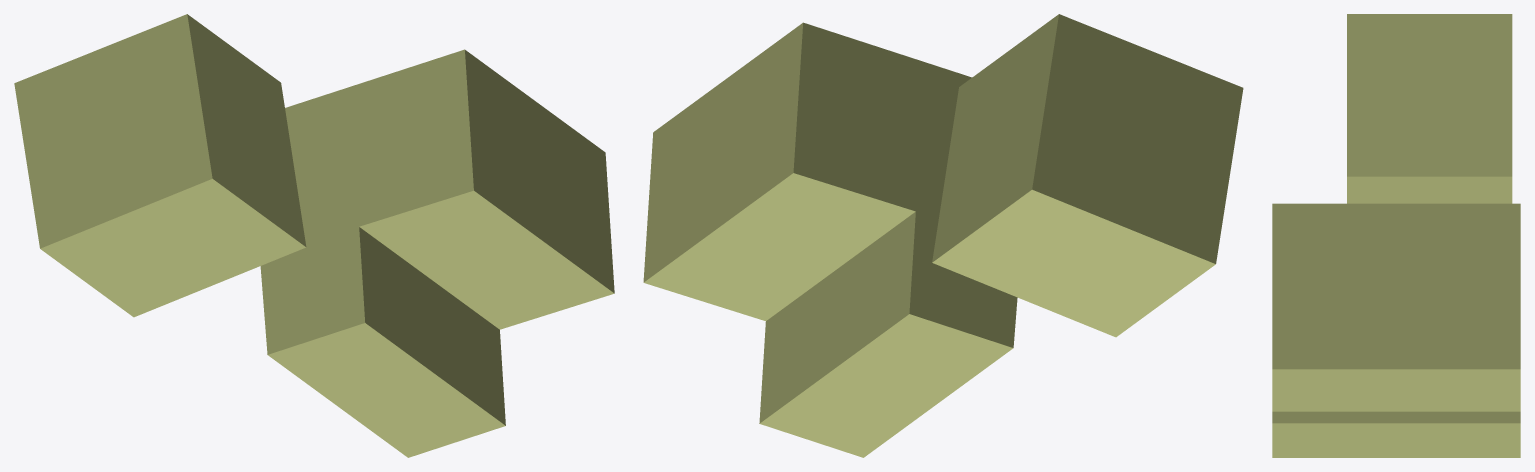
3 views of the same model, side by side, from view 1: azimuth 30°, elevation 25°; view 2: azimuth 150°, elevation 25°; view 3: azimuth 270°, elevation 25° (orthographic). The views are drawn at different scales.
Visible parts, largest first — view 1: 0_1_0_0_2_0_1_1_3_1; view 2: 0_1_0_0_2_0_1_1_3_1; view 3: 0_1_0_0_2_0_1_1_3_1.
Part boxes in pixels (x1,y1,x2,y2): 0_1_0_0_2_0_1_1_3_1: (14,14,614,457); 0_1_0_0_2_0_1_1_3_1: (643,14,1243,457); 0_1_0_0_2_0_1_1_3_1: (1272,14,1520,457).
Bounding box in the file's own units: 17.15 × 12.88 × 9.
